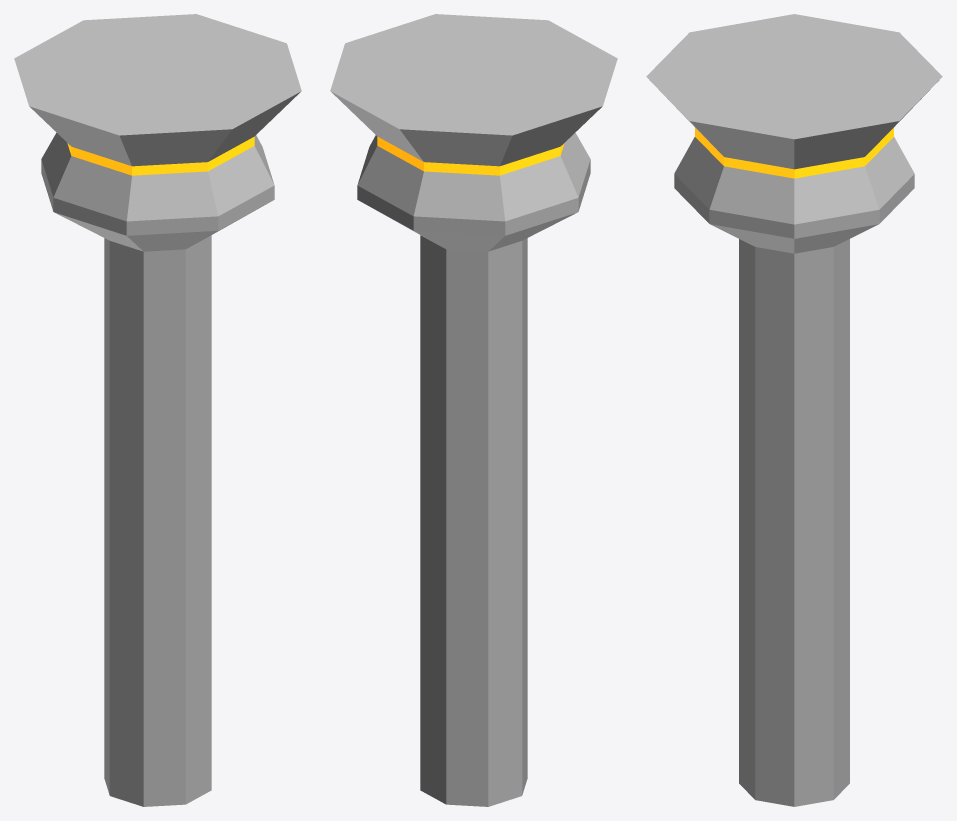
File: stlp.fbx
3 views of the same model, side by side, from view 1: azimuth 30°, elevation 25°; view 2: azimuth 150°, elevation 25°; view 3: azimuth 270°, elevation 25° (orthographic).
Parts seen in each view (by area): view 1: Circle.001; view 2: Circle.001; view 3: Circle.001.
Part boxes in pixels (box(x1,y1,x2,y2)): Circle.001: box(14, 14, 301, 806); Circle.001: box(330, 14, 617, 806); Circle.001: box(646, 14, 942, 806).
Size of the model in its own units: 357 by 938 by 357.
